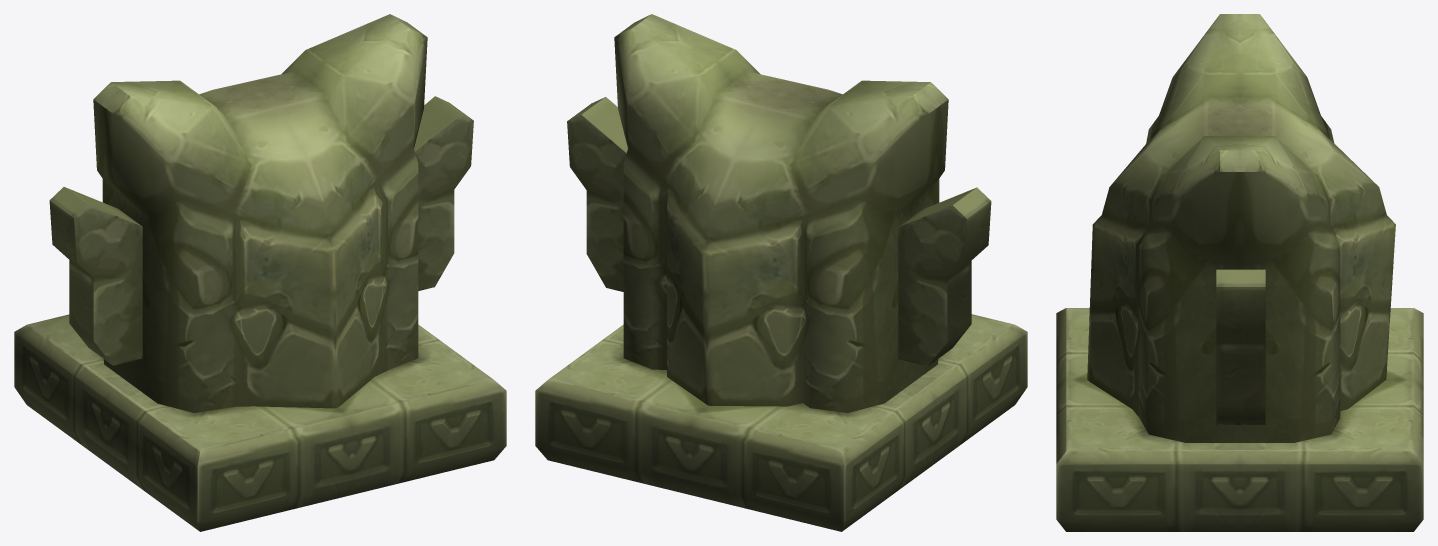
The model's file is Jungle_statue_01.fbx.
The picture shows the model from 3 angles, left to right: view 1: azimuth 30°, elevation 25°; view 2: azimuth 150°, elevation 25°; view 3: azimuth 270°, elevation 25°; orthographic projection.
Parts seen in each view (by area): view 1: Jungle_statue_01; view 2: Jungle_statue_01; view 3: Jungle_statue_01.
Boxes of the visible parts, x1=… form: Jungle_statue_01: x1=14, y1=14, x2=506, y2=531; Jungle_statue_01: x1=535, y1=14, x2=1027, y2=531; Jungle_statue_01: x1=1056, y1=14, x2=1423, y2=531.
Size of the model in its own units: 225 by 203 by 179.
